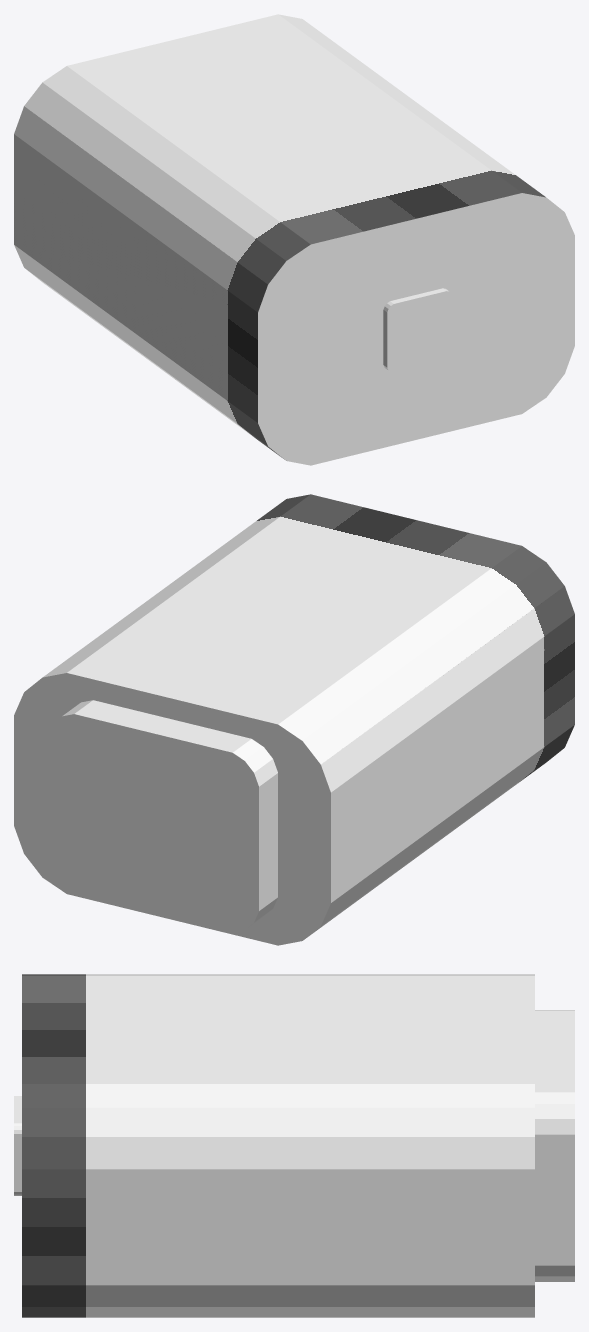
File: gpp_heavy_electric_tc.obj
3 views of the same model, one above another, from view 1: azimuth 30°, elevation 25°; view 2: azimuth 150°, elevation 25°; view 3: azimuth 270°, elevation 25° (orthographic). The views are drawn at different scales.
Visible parts, largest first — view 1: case, shaft; view 2: case, battery; view 3: case, battery, shaft.
Boxes of the visible parts, x1,y1,x2,y2 form: case: (14, 14, 574, 465); shaft: (383, 288, 453, 372); case: (14, 494, 574, 945); battery: (47, 700, 277, 932); case: (22, 974, 534, 1317); battery: (535, 1010, 574, 1281); shaft: (14, 1096, 21, 1195).
Size of the model in its own units: 1.04 by 0.6937 by 1.52.
